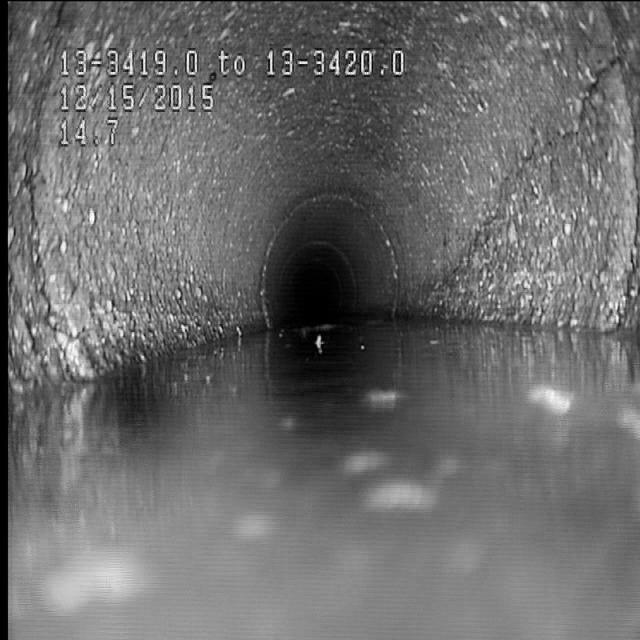Crack: (478, 88, 568, 274)
